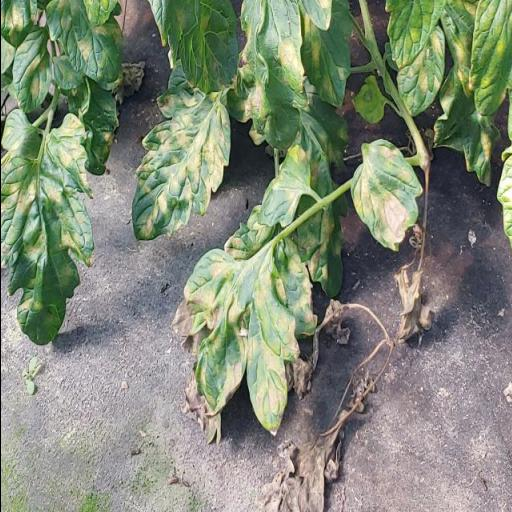Leaf Mold: (170, 248, 300, 445), (0, 108, 93, 346), (130, 91, 230, 242), (239, 0, 304, 153), (146, 0, 240, 93), (350, 140, 424, 255), (296, 160, 348, 297), (44, 0, 122, 85), (301, 0, 354, 110), (468, 0, 512, 115), (394, 26, 444, 116), (256, 146, 310, 228), (272, 240, 316, 335), (10, 26, 52, 114)
